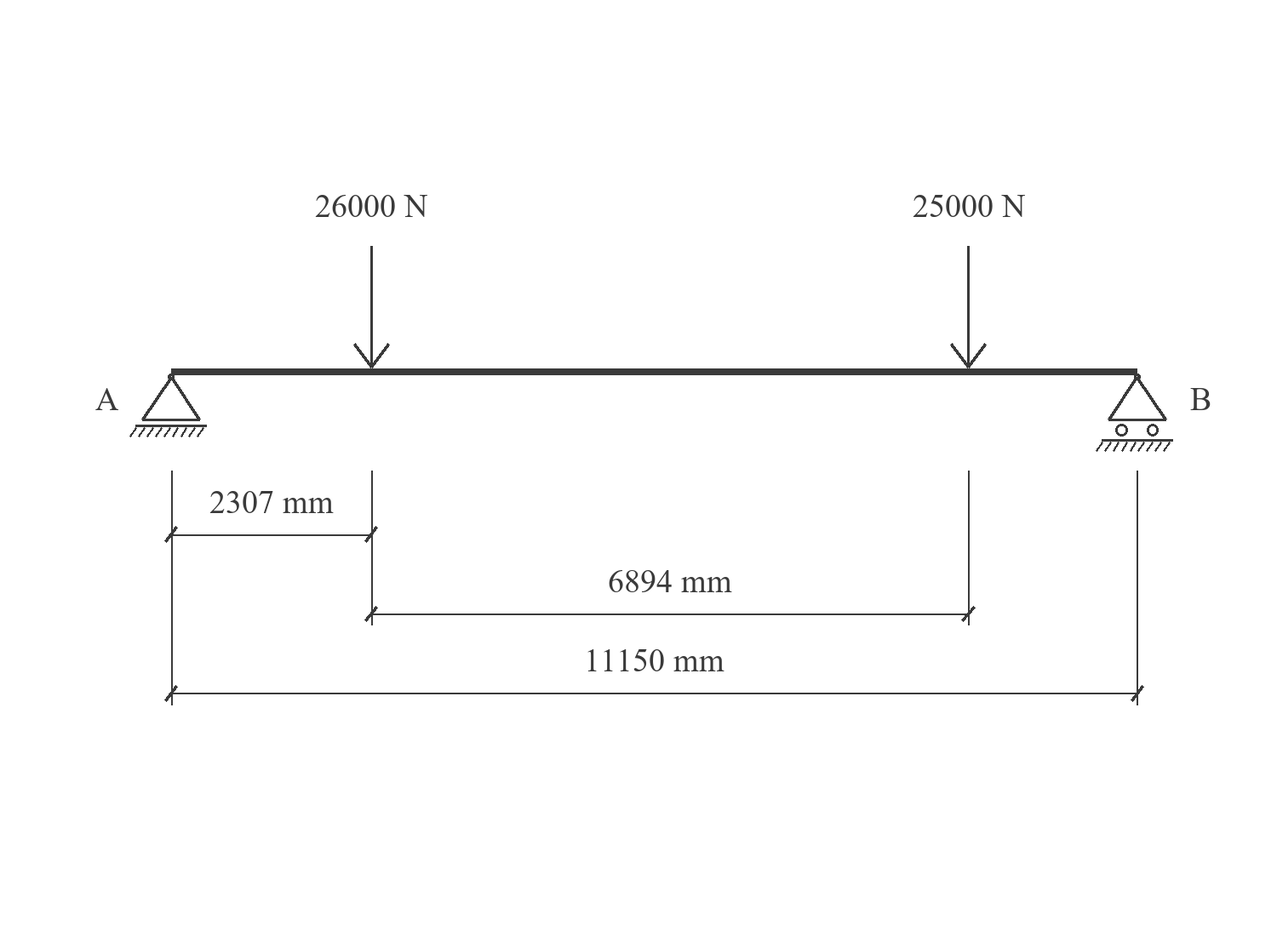pin_support: (129, 374, 207, 437)
point_load: (353, 246, 390, 368), (950, 246, 987, 368)
roller_support: (1096, 374, 1173, 452)
